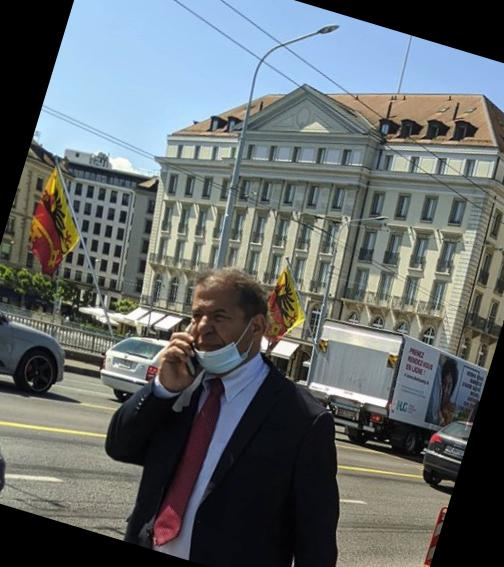mask_weared_incorrect: (176, 289, 263, 375)
